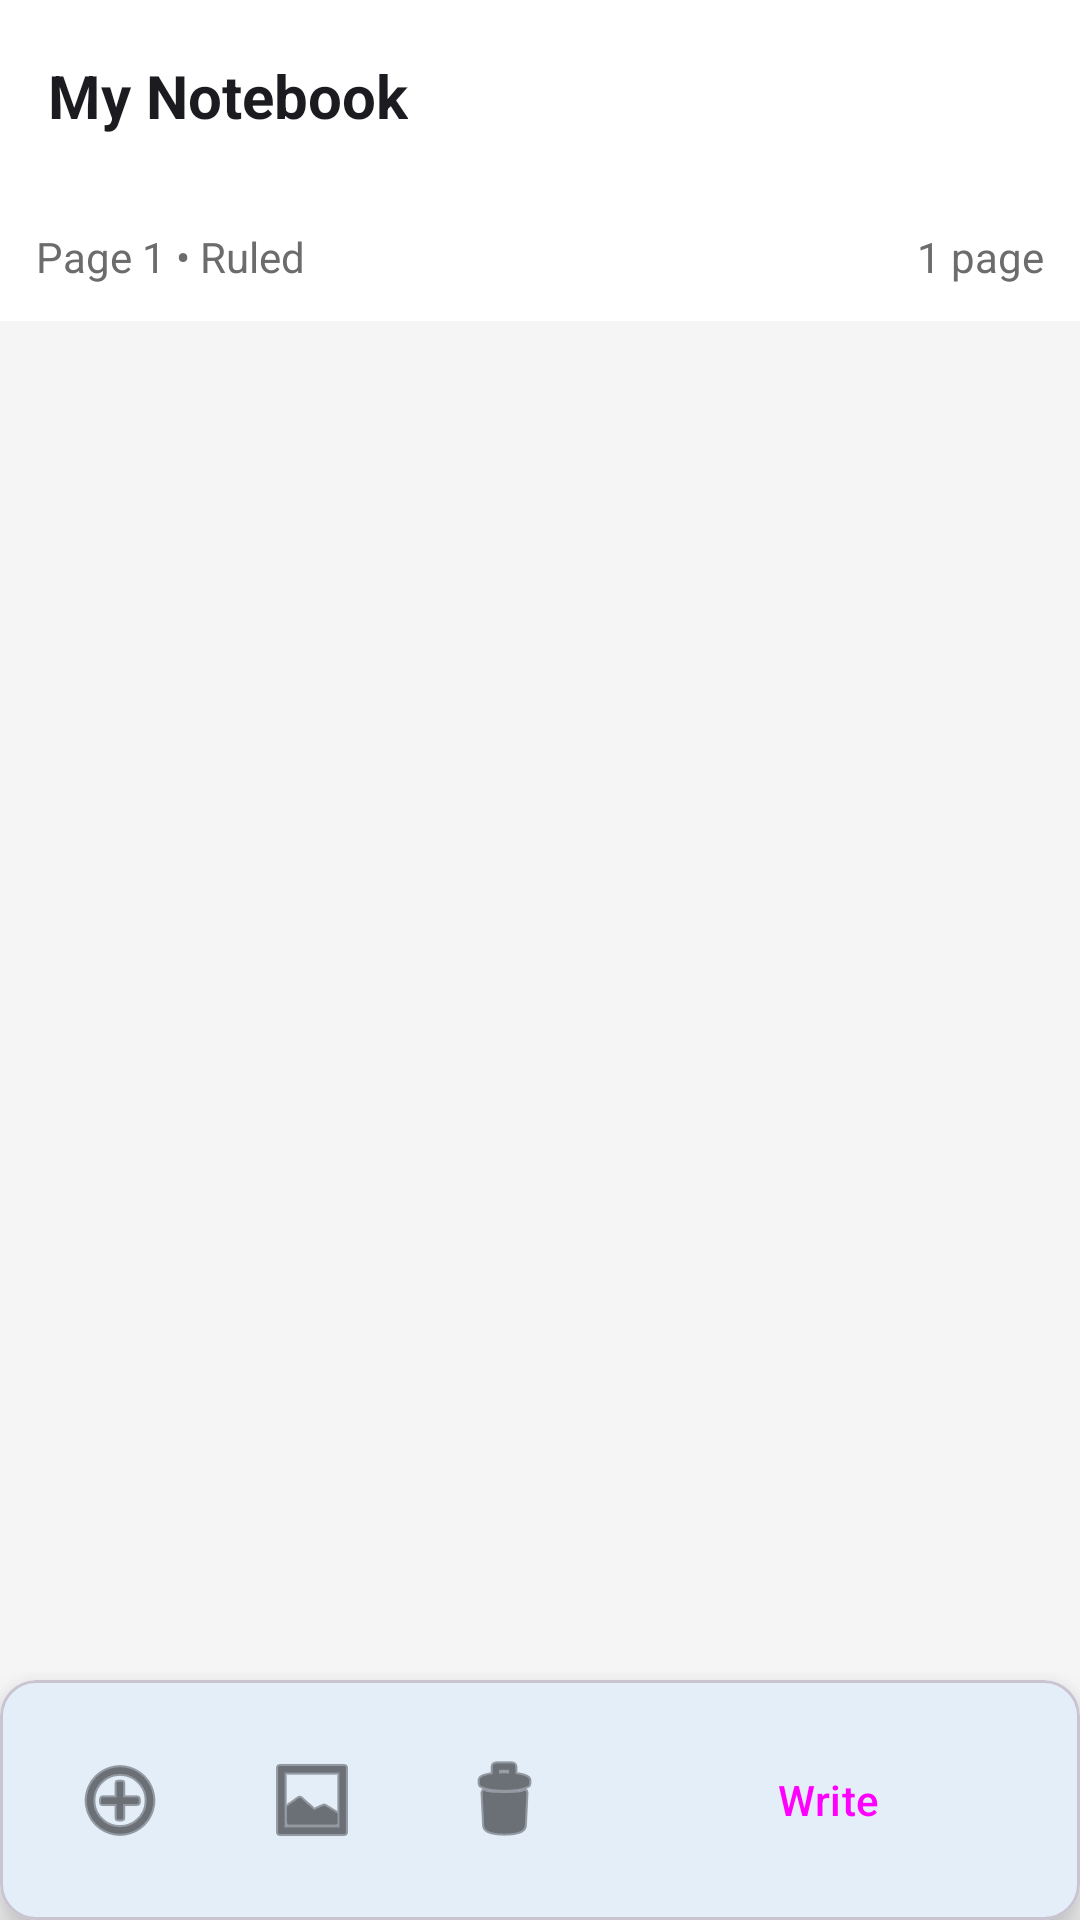

Point at icon controls on the screen. Image size 1080 × 1920, points as [x,y].
Add page: [120,1800]
Delete page: [504,1798]
